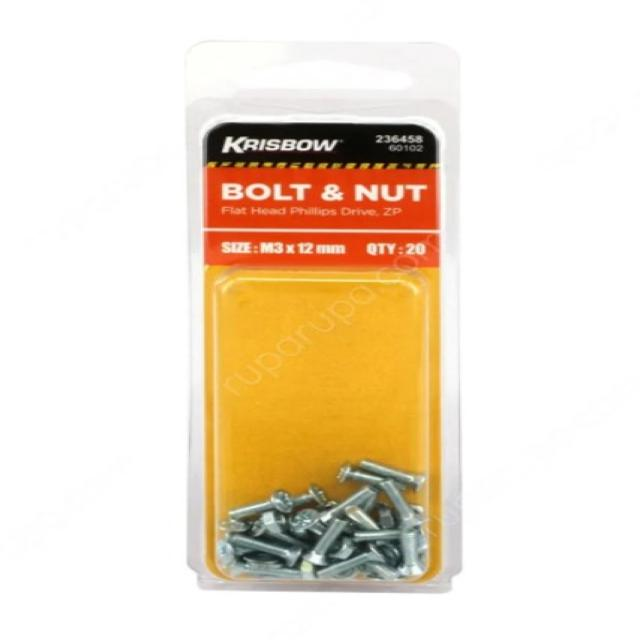Logam: (166, 406, 490, 610)
